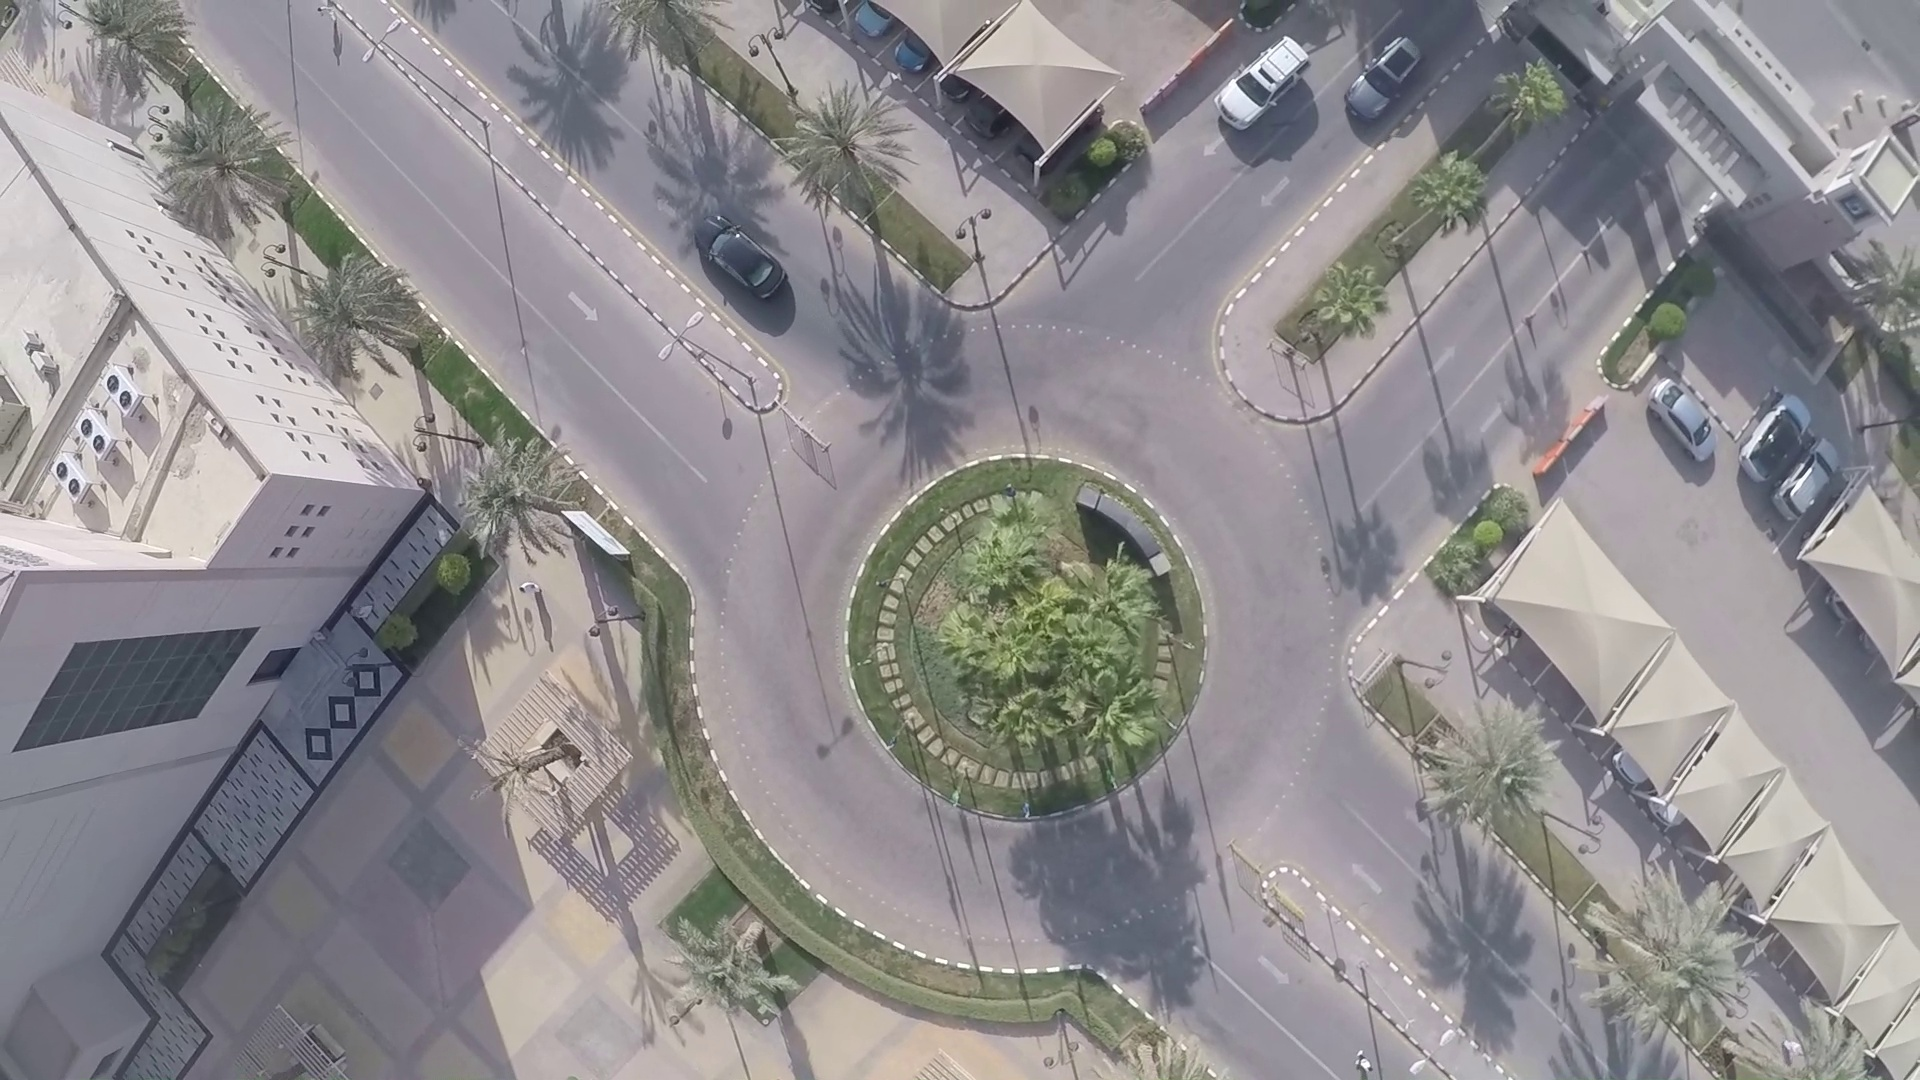car: (682, 204, 796, 318), (1338, 30, 1427, 135)
